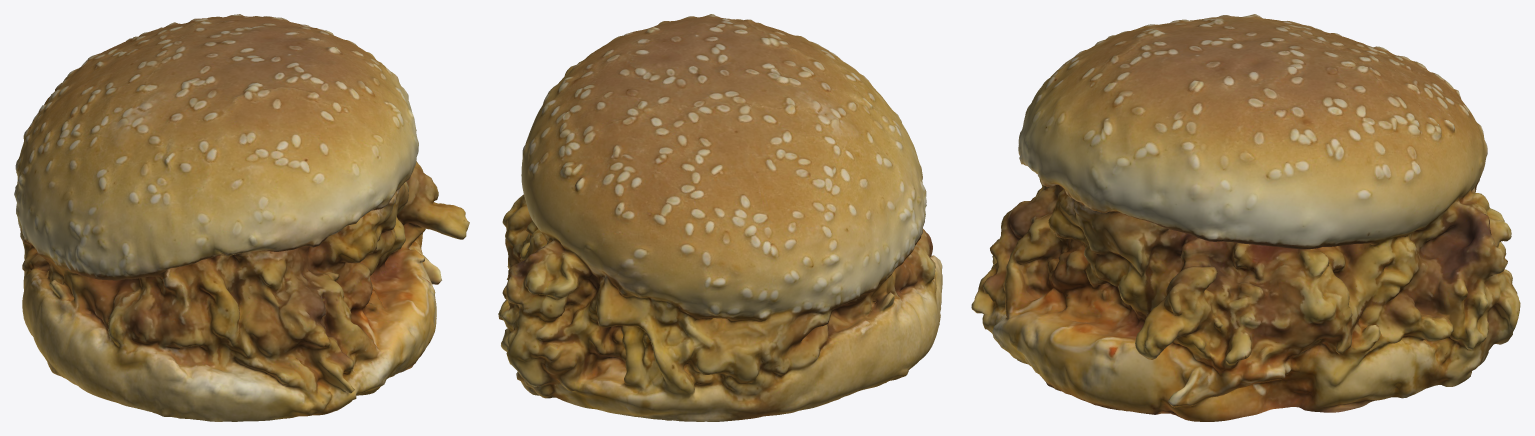
The model's file is Zinger burger.glb.
3 renders of one model, left to right at view 1: azimuth 30°, elevation 25°; view 2: azimuth 150°, elevation 25°; view 3: azimuth 270°, elevation 25°, orthographic. The views are drawn at different scales.
Visible parts, largest first — view 1: Retopo_3DModel; view 2: Retopo_3DModel; view 3: Retopo_3DModel.
Boxes of the visible parts, box(x1,y1,x2,y2) form: Retopo_3DModel: box(14, 14, 469, 421); Retopo_3DModel: box(498, 14, 942, 421); Retopo_3DModel: box(971, 14, 1520, 421).
Bounding box in the file's own units: 0.1901 × 0.1299 × 0.2141.
1 material, 1 textured.
